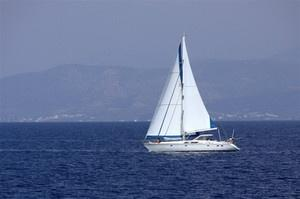fanchuan: (140, 33, 243, 156)
